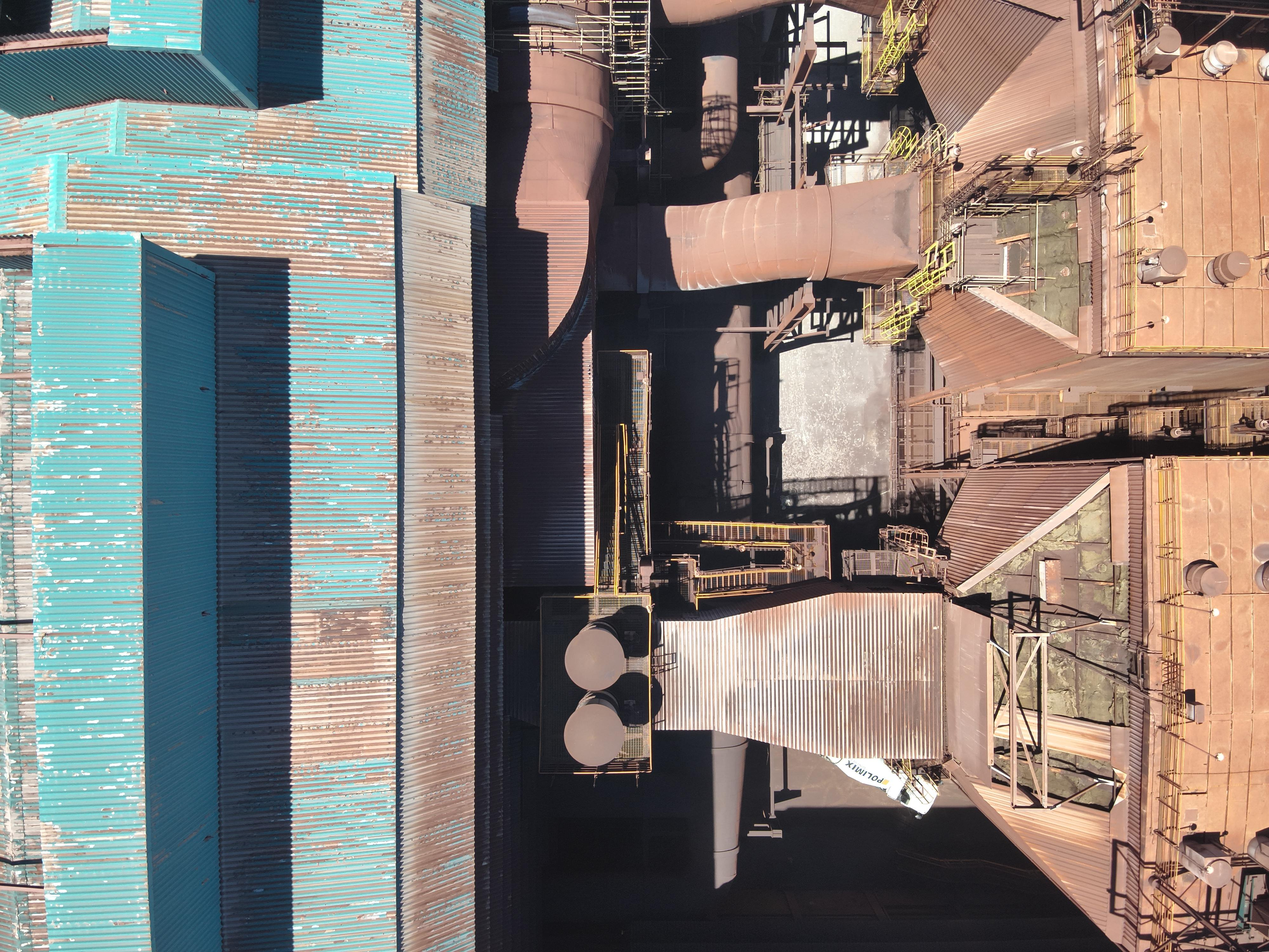Failures: (965, 476, 1127, 815), (986, 200, 1096, 340)
